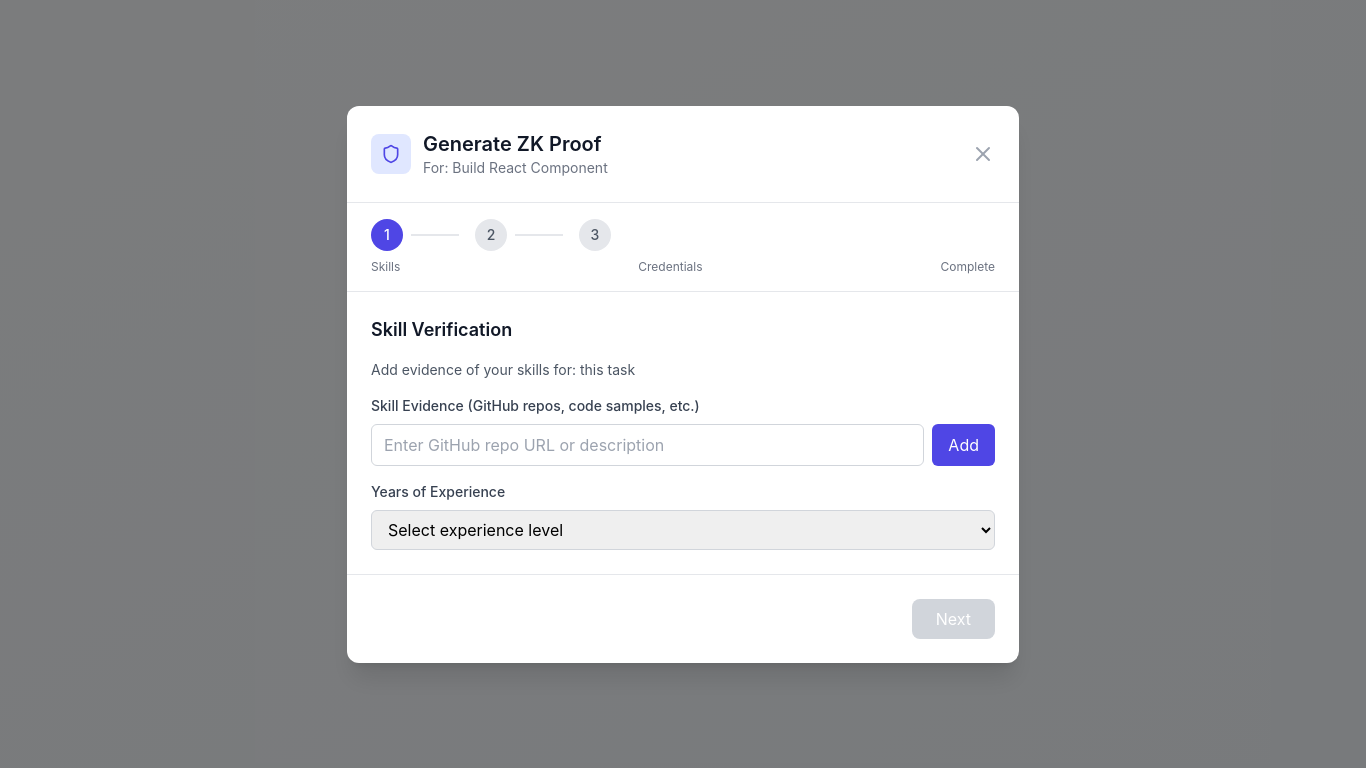
Test: ProofGenerator Component › Step 2 - Additional Credentials › should navigate to step 2 and show correct content
This screenshot has width=1366, height=768.
Step 1. Type "test-proof" into the field with placeholder "Enter GitHub repo URL or description" → (648, 444), box [371,424,924,466]
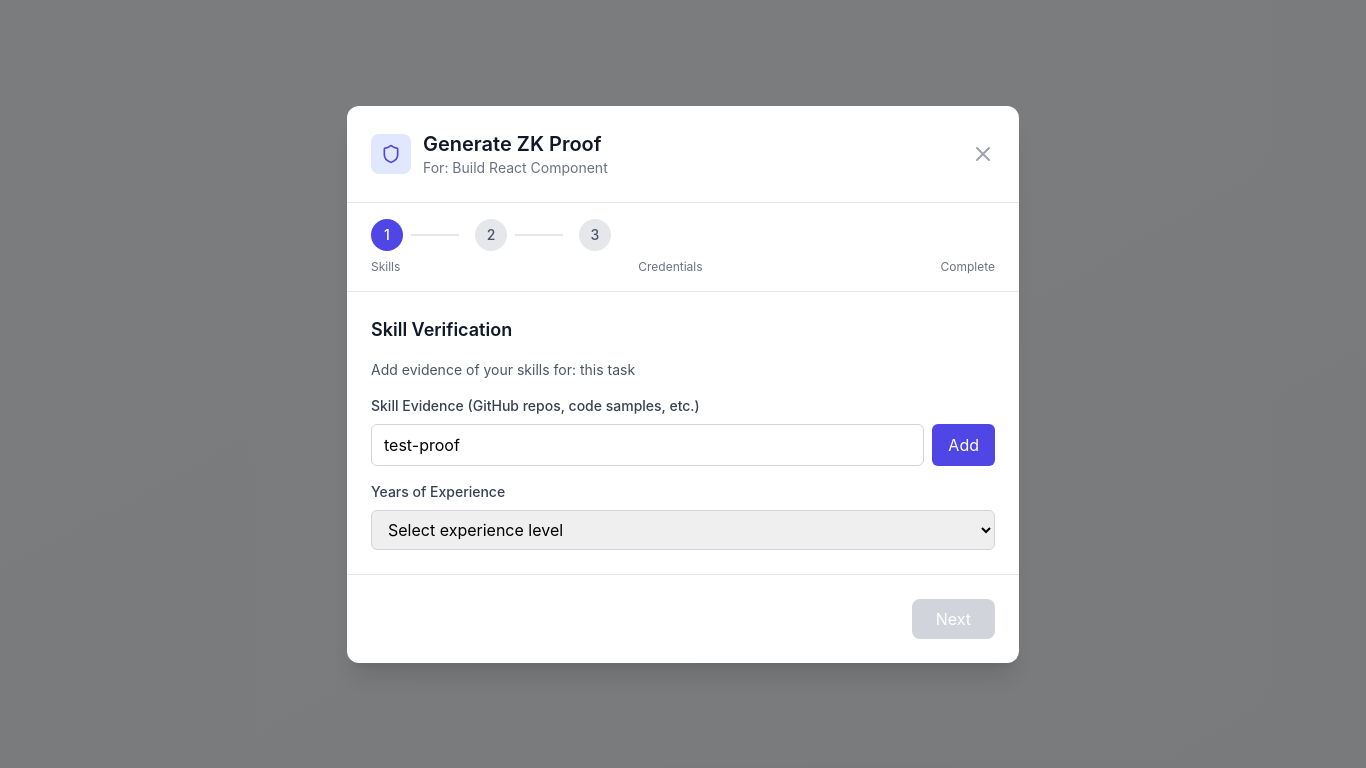
Step 2. Click the button "Add" → (964, 444), box [932,424,995,466]
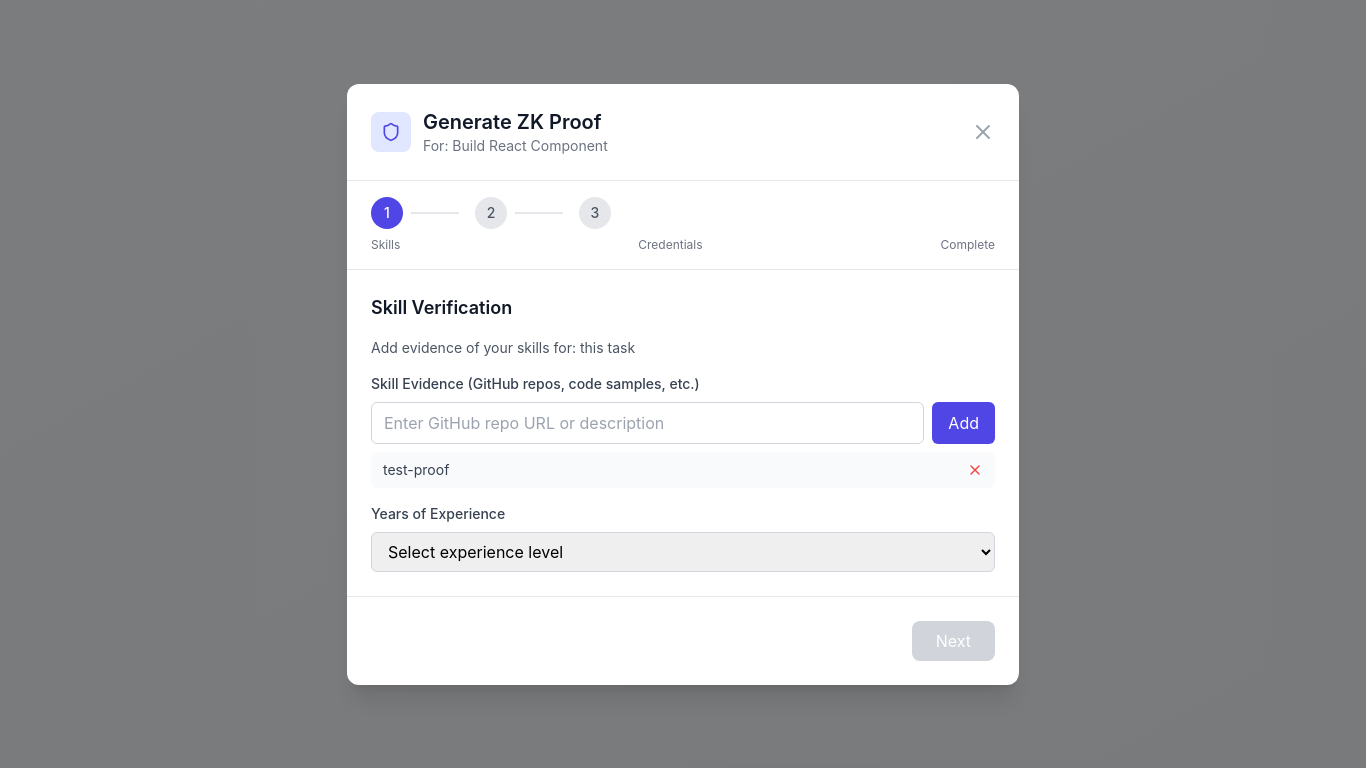
Step 3. Select "3-5 years (Mid-level)" in the dropdown showing "Select experience level" → (683, 552), box [371,532,995,572]
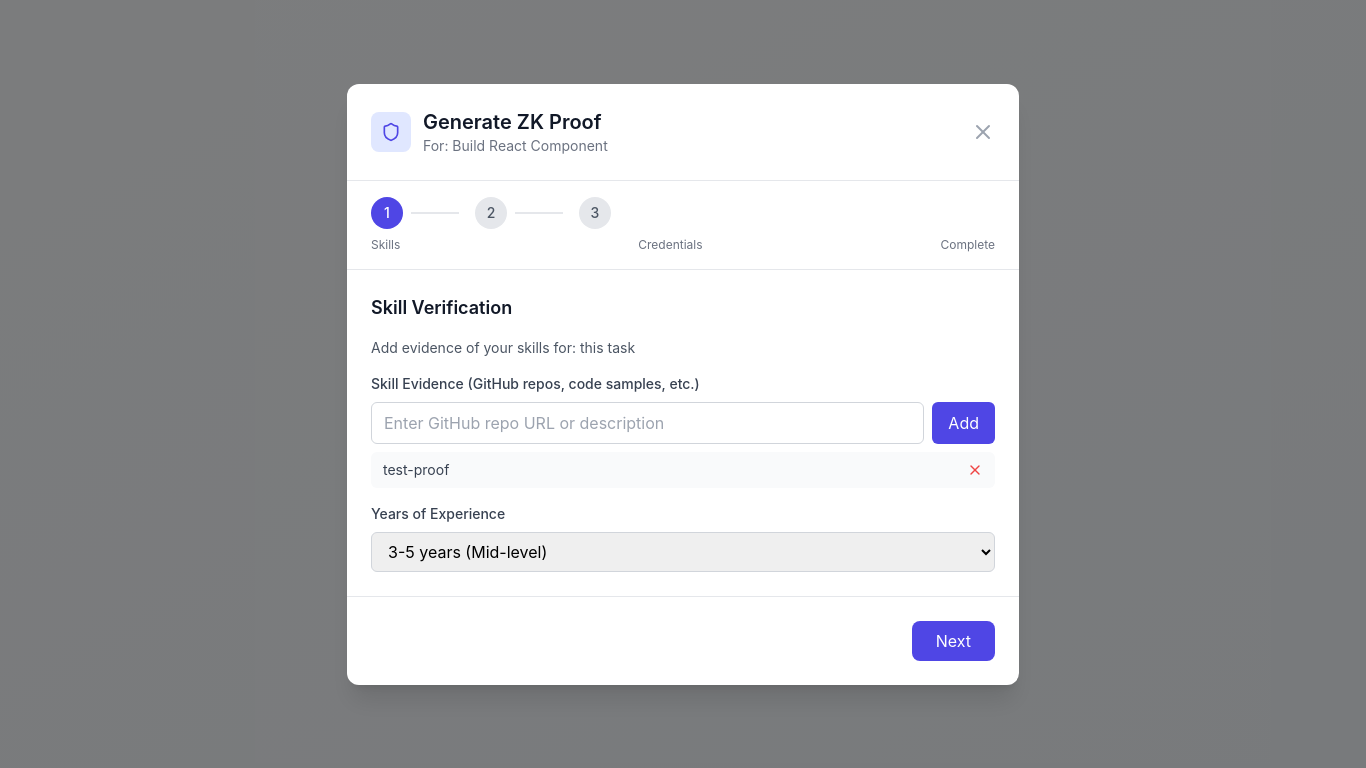
Step 4. Click the button "Next" → (953, 640), box [912,620,995,660]
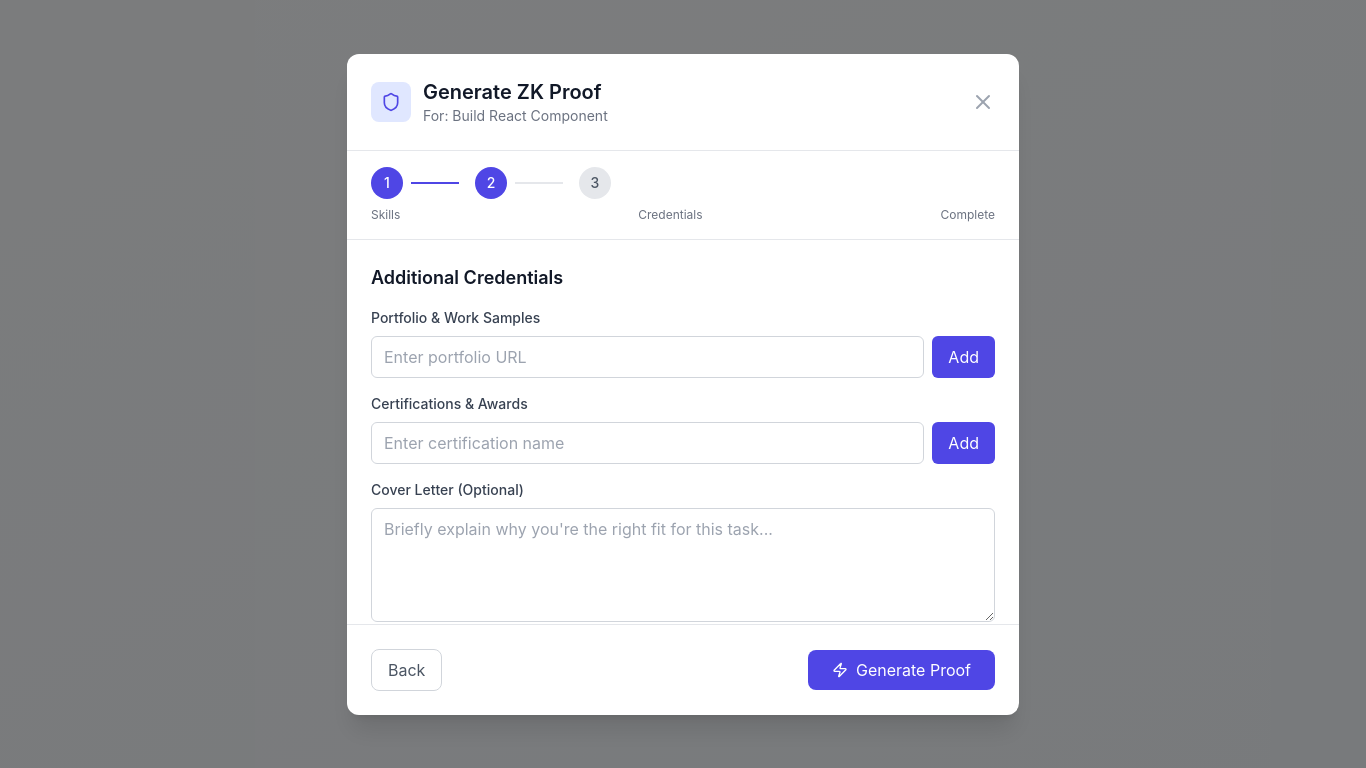
Result: the heading "Additional Credentials" is shown at [371,266,563,288]
Result: the text "Portfolio & Work Samples" is shown at [371,308,540,326]
Result: the text "Certifications & Awards" is shown at [371,394,528,412]
